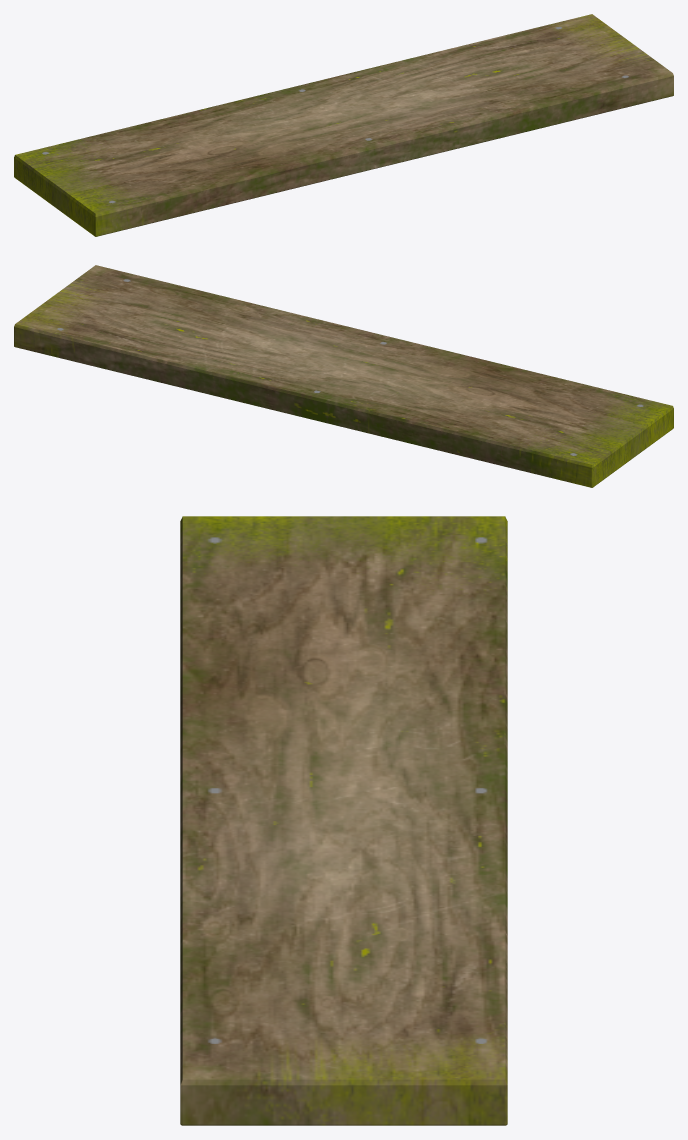
The model's file is PNW Pathway_Plank_C_No Grip.glb.
3 renders of one model, top to bottom at view 1: azimuth 30°, elevation 25°; view 2: azimuth 150°, elevation 25°; view 3: azimuth 270°, elevation 25°, orthographic. The views are drawn at different scales.
Parts seen in each view (by area): view 1: Plank C_No Grip; view 2: Plank C_No Grip; view 3: Plank C_No Grip.
Part boxes in pixels (x1=…): Plank C_No Grip: x1=14, y1=14, x2=673, y2=236; Plank C_No Grip: x1=14, y1=265, x2=673, y2=487; Plank C_No Grip: x1=180, y1=516, x2=507, y2=1125.
Bounding box in the file's own units: 1.52 × 0.0577 × 0.372.
Materials: 1 (1 with a texture image).
